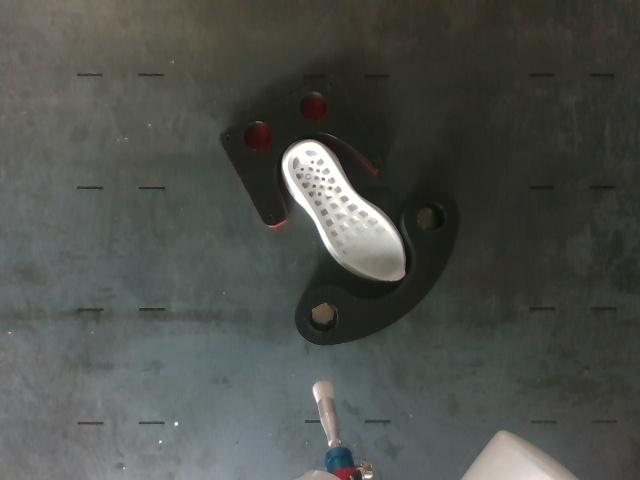shoes: (288, 142, 405, 280)
